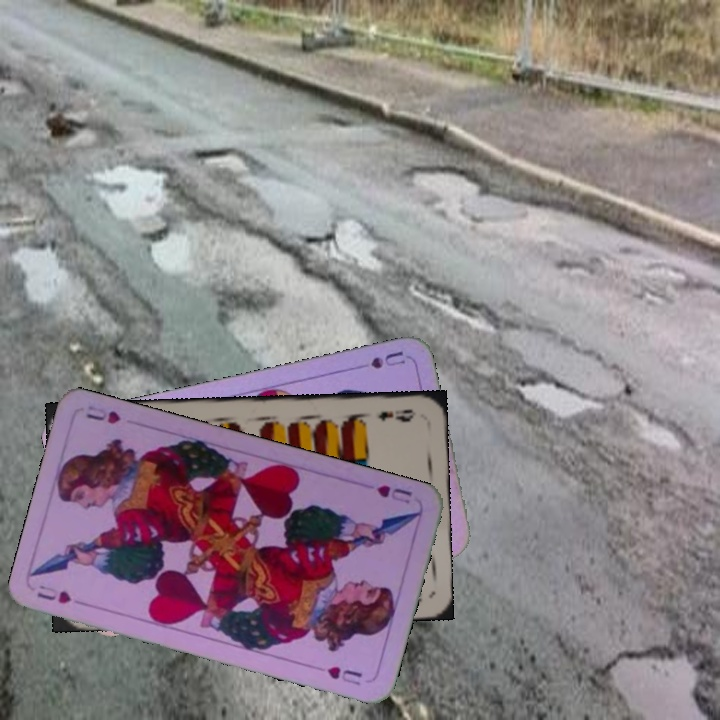E9: (373, 405, 418, 425)
HU: (372, 480, 415, 507), (33, 581, 74, 607)
SU: (367, 346, 408, 372)
